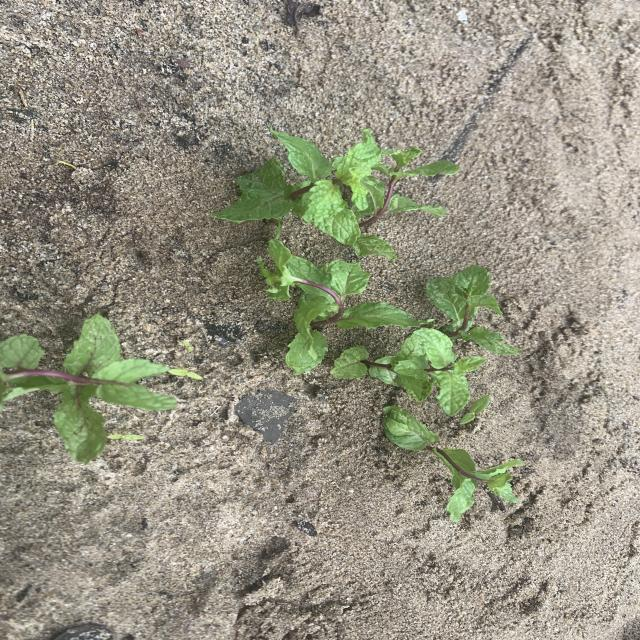crop: (0, 314, 177, 463), (256, 239, 425, 374), (212, 127, 384, 244), (383, 406, 524, 522), (331, 328, 485, 415), (352, 148, 459, 260), (426, 266, 521, 355)
weed: (460, 396, 490, 425), (169, 368, 204, 380), (107, 433, 145, 442), (181, 339, 194, 353)
